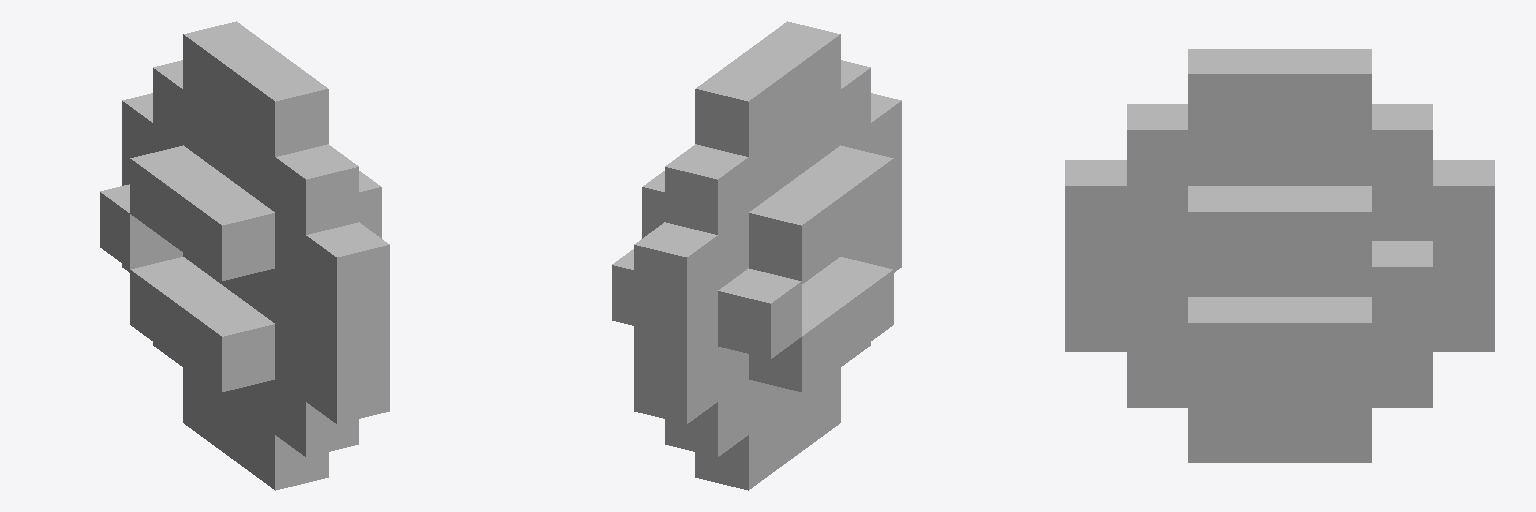
File: coin.obj
3 views of the same model, side by side, from view 1: azimuth 30°, elevation 25°; view 2: azimuth 150°, elevation 25°; view 3: azimuth 270°, elevation 25° (orthographic).
Parts seen in each view (by area): view 1: object 1; view 2: object 1; view 3: object 1.
Boxes of the visible parts, x1,y1,x2,y2 form: object 1: [100, 21, 389, 490]; object 1: [612, 21, 901, 490]; object 1: [1065, 49, 1494, 462].
Bounding box in the file's own units: 0.3 × 0.7 × 0.7.